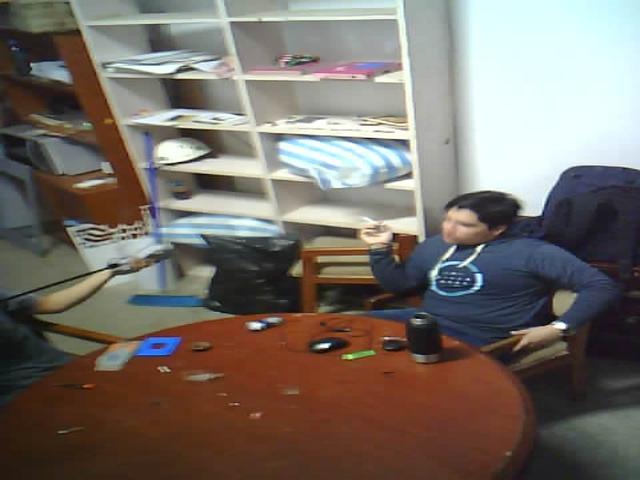person: (322, 128, 635, 383), (0, 198, 163, 417)
